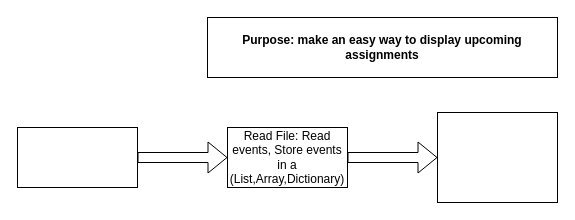
Image size: 575x220. Some labels were removed from this diagram. The centre of each missing label's shape, as x and y in pixels:
Display events graphically: use stored events to create interface for user: point (497, 157)
make Csv file, format: Eventname, dueDate, TimeToComplete: point (77, 157)
